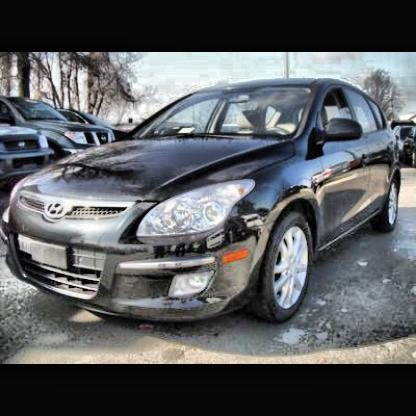Hyundai Elantra Touring Hatchback 2012: (5, 77, 409, 331)
